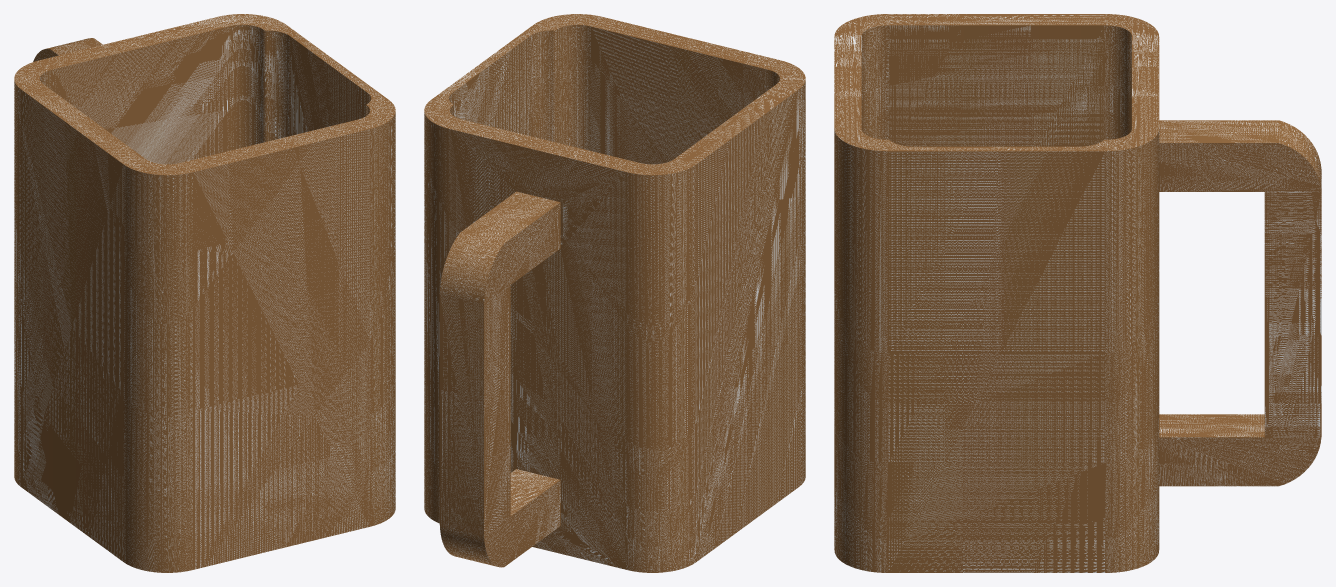
3 renders of one model, left to right at view 1: azimuth 30°, elevation 25°; view 2: azimuth 150°, elevation 25°; view 3: azimuth 270°, elevation 25°, orthographic. The views are drawn at different scales.
Parts seen in each view (by area): view 1: mesh21_mesh21-geometry; view 2: mesh21_mesh21-geometry; view 3: mesh21_mesh21-geometry.
Boxes of the visible parts, <box> form: mesh21_mesh21-geometry: <box>14,14,395,572</box>; mesh21_mesh21-geometry: <box>424,14,805,572</box>; mesh21_mesh21-geometry: <box>834,14,1321,572</box>.
Size of the model in its own units: 0.4342 by 0.6223 by 0.6513.
